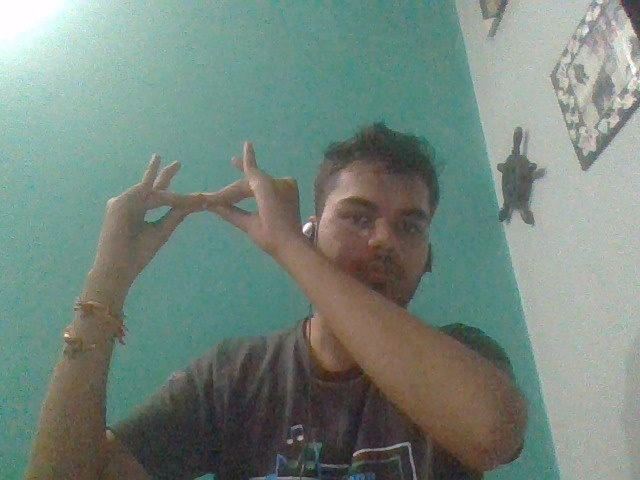family: (80, 140, 311, 269)
